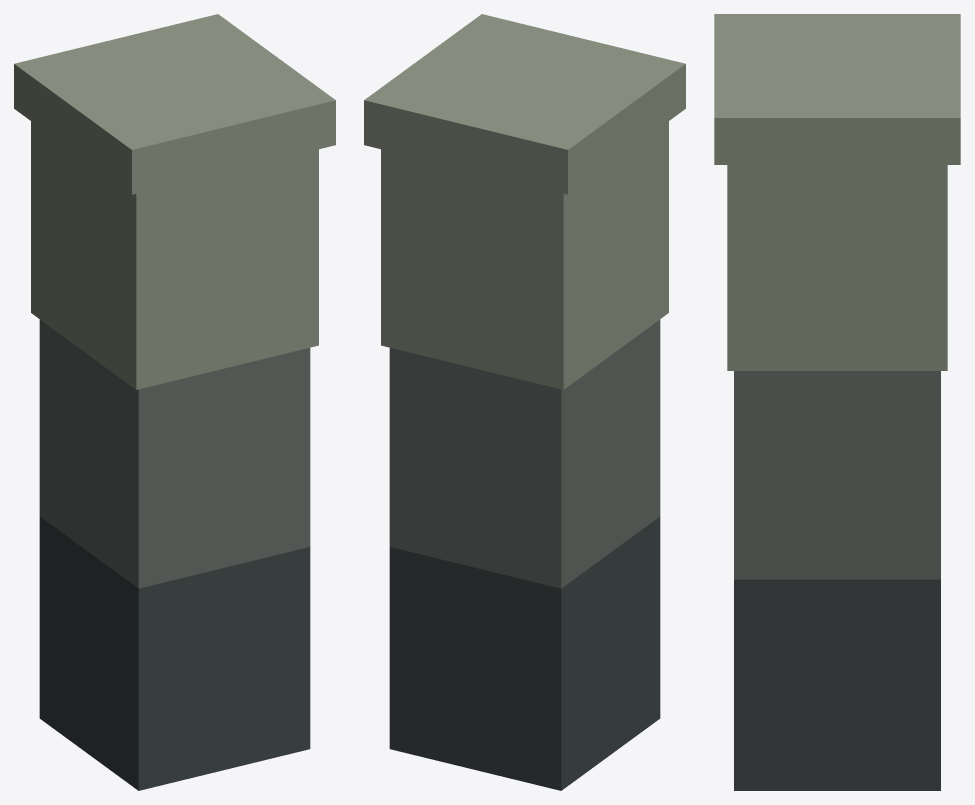
Rendered from TW_STONE_END_CAP_A_LOD0.glb.
The picture shows the model from 3 angles, left to right: view 1: azimuth 30°, elevation 25°; view 2: azimuth 150°, elevation 25°; view 3: azimuth 270°, elevation 25°; orthographic projection. The views are drawn at different scales.
Visible parts, largest first — view 1: TW_STONE_END_CAP_A_LOD0; view 2: TW_STONE_END_CAP_A_LOD0; view 3: TW_STONE_END_CAP_A_LOD0.
Part boxes in pixels (bbox=[...]): TW_STONE_END_CAP_A_LOD0: bbox=[14, 14, 335, 790]; TW_STONE_END_CAP_A_LOD0: bbox=[364, 14, 685, 790]; TW_STONE_END_CAP_A_LOD0: bbox=[714, 14, 960, 790].
Size of the model in its own units: 0.38 by 1.16 by 0.38.
Materials: 1 (1 with a texture image).
